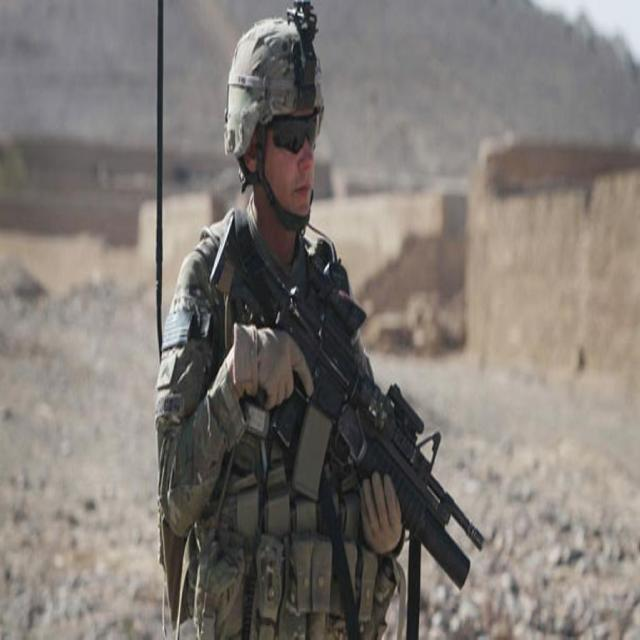Face: (264, 106, 324, 236)
